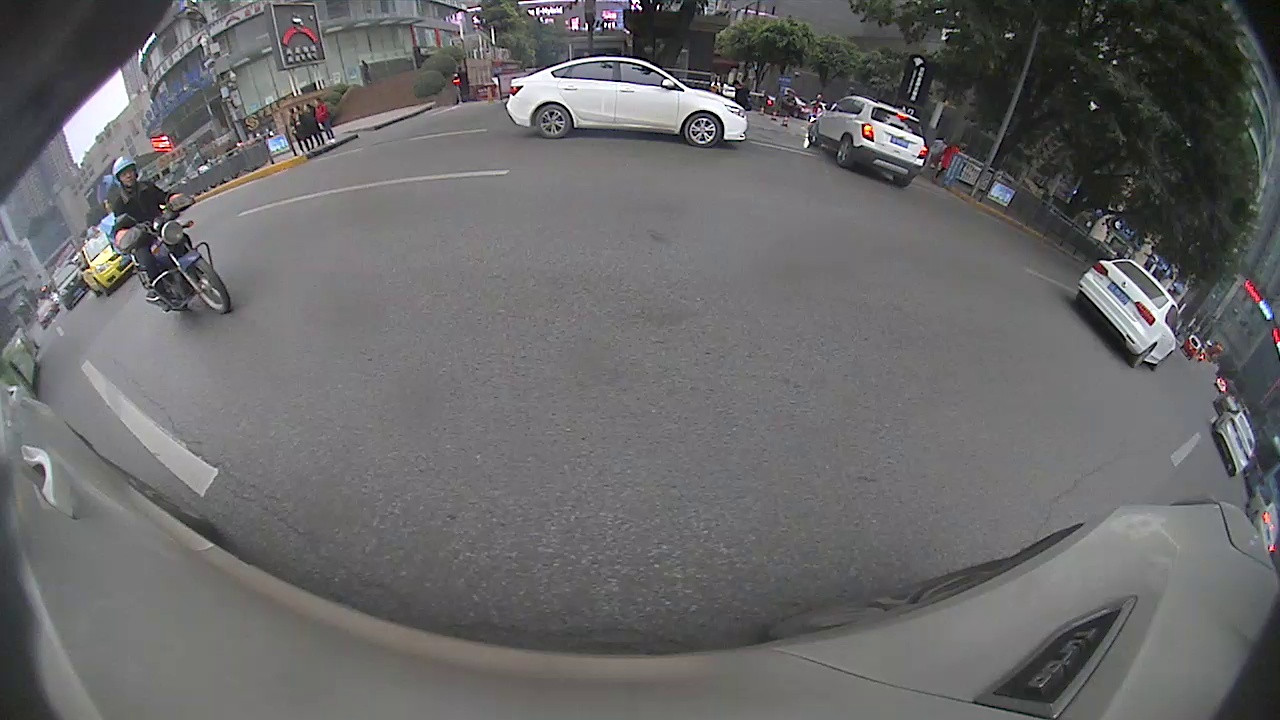car: (505, 55, 751, 151), (1076, 257, 1179, 371), (810, 93, 929, 190), (76, 234, 137, 297)
front: (179, 258, 229, 311), (682, 110, 724, 150)
rear: (534, 103, 572, 141), (833, 132, 854, 171), (1132, 341, 1160, 370)
rider: (107, 153, 233, 317)
